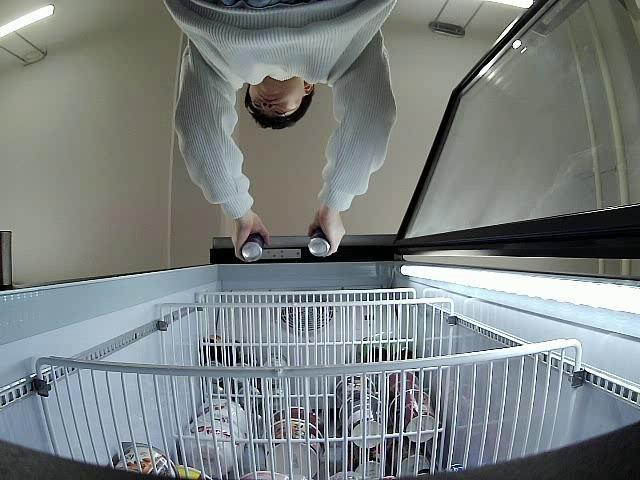16_hot6: (308, 225, 330, 257), (242, 230, 263, 260)
